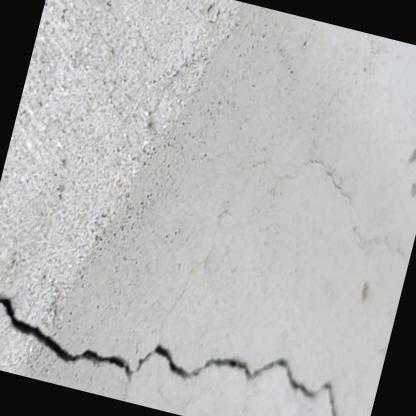crack: (0, 299, 336, 416)
